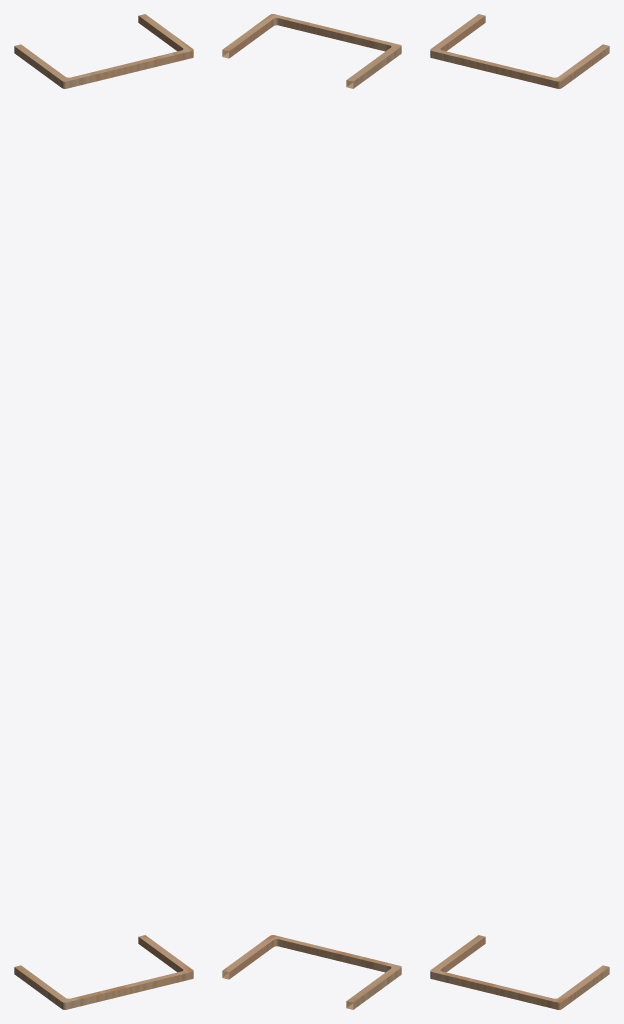
3 views of the same model, side by side, from view 1: azimuth 30°, elevation 25°; view 2: azimuth 150°, elevation 25°; view 3: azimuth 330°, elevation 25° (orthographic).
Bounding box in the file's own units: 0.1421 × 0.9608 × 0.093.
